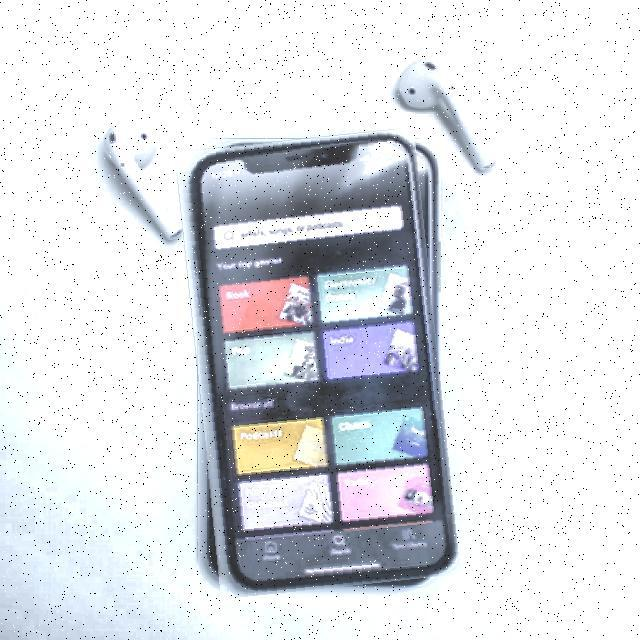Phone: (186, 133, 449, 594)
